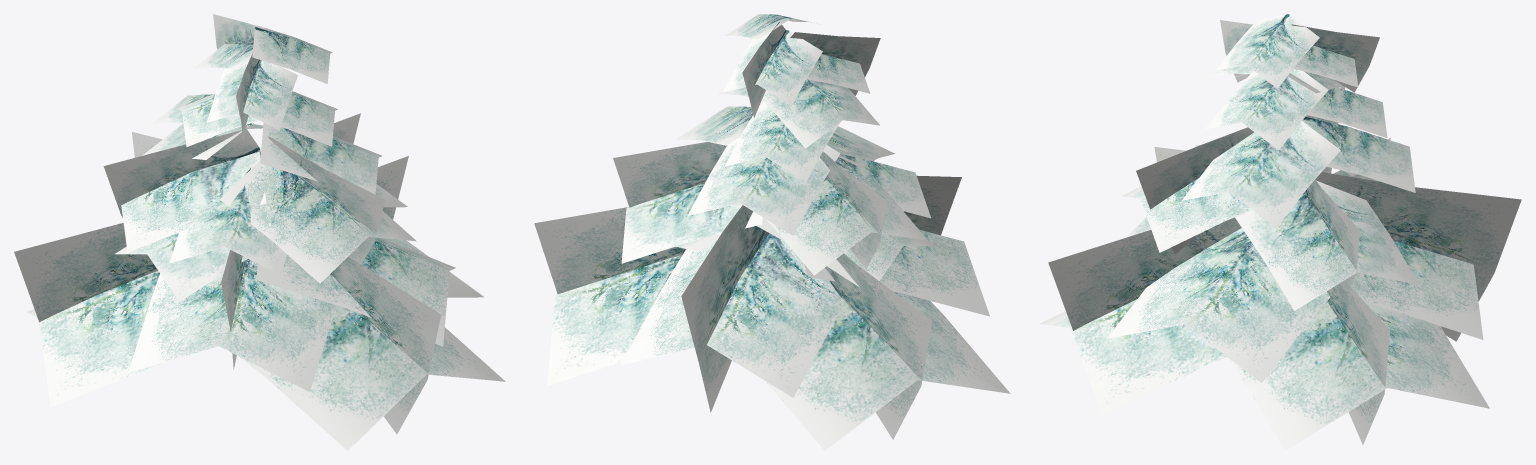
File: tree08.obj
The picture shows the model from 3 angles, left to right: view 1: azimuth 30°, elevation 25°; view 2: azimuth 150°, elevation 25°; view 3: azimuth 270°, elevation 25°; orthographic projection.
Visible parts, largest first — view 1: tree08; view 2: tree08; view 3: tree08.
Boxes of the visible parts, x1,y1,x2,y2 form: tree08: [14, 14, 505, 450]; tree08: [534, 14, 1010, 450]; tree08: [1039, 14, 1521, 450].
Size of the model in its own units: 315 by 245 by 300.
